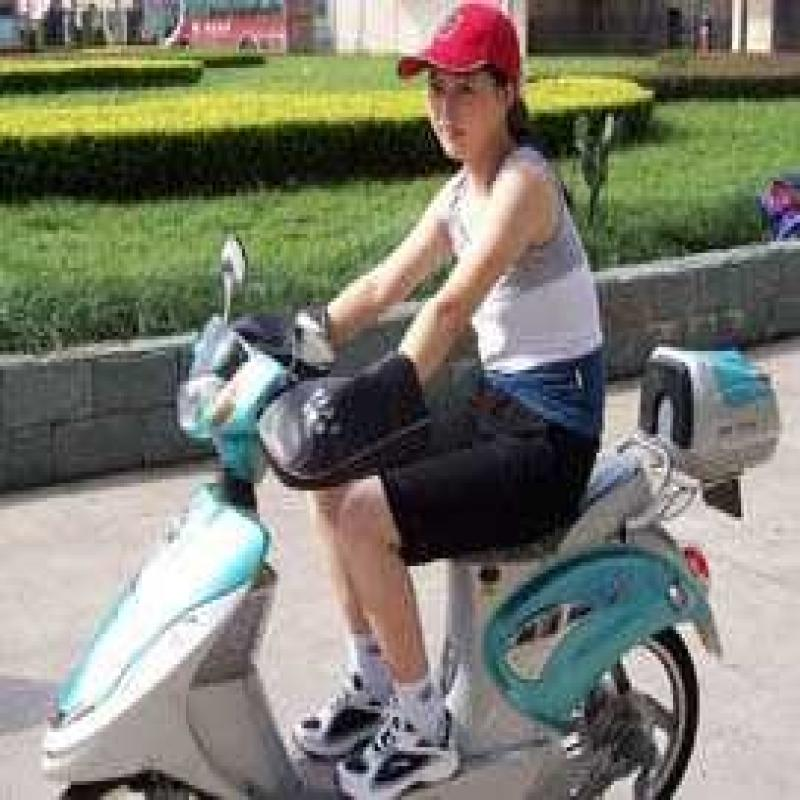bike: (84, 228, 716, 800)
